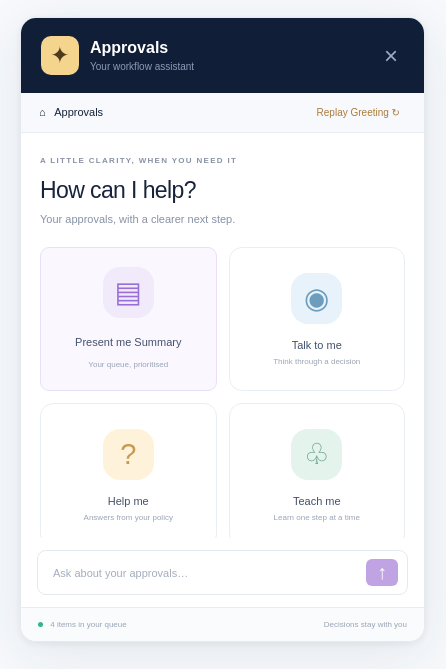
Test: shows a recoverable network error
Click the button "▤ Present me Summary Your queue, prioritised".
click(128, 319)  # box [40,247,216,391]
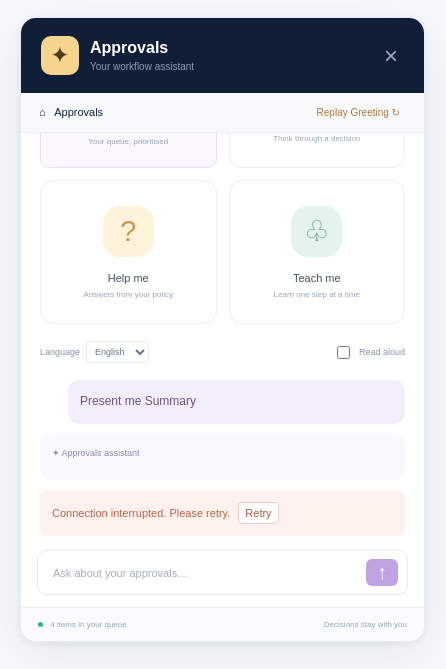
Check: the message shows "Connection interrupted", box [52,507,230,519]
Check: the button "Retry" is enabled, box [238,502,279,524]
